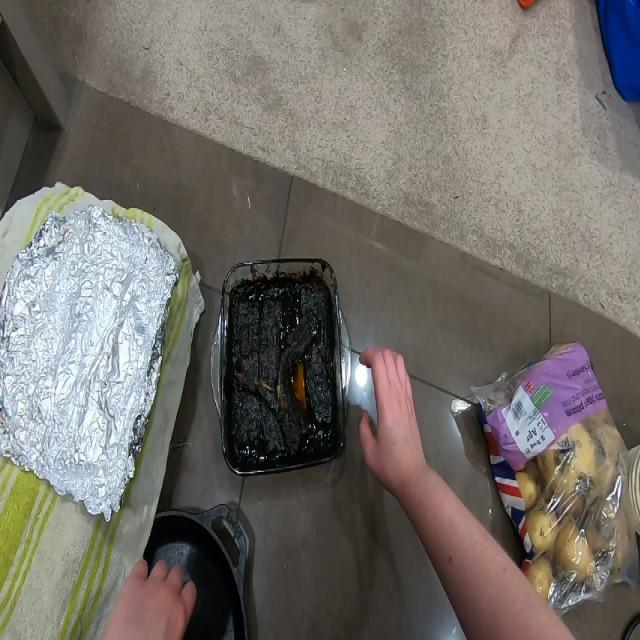left hand: (107, 551, 194, 640)
potato: (478, 330, 622, 588)
right hand: (355, 327, 438, 530)
